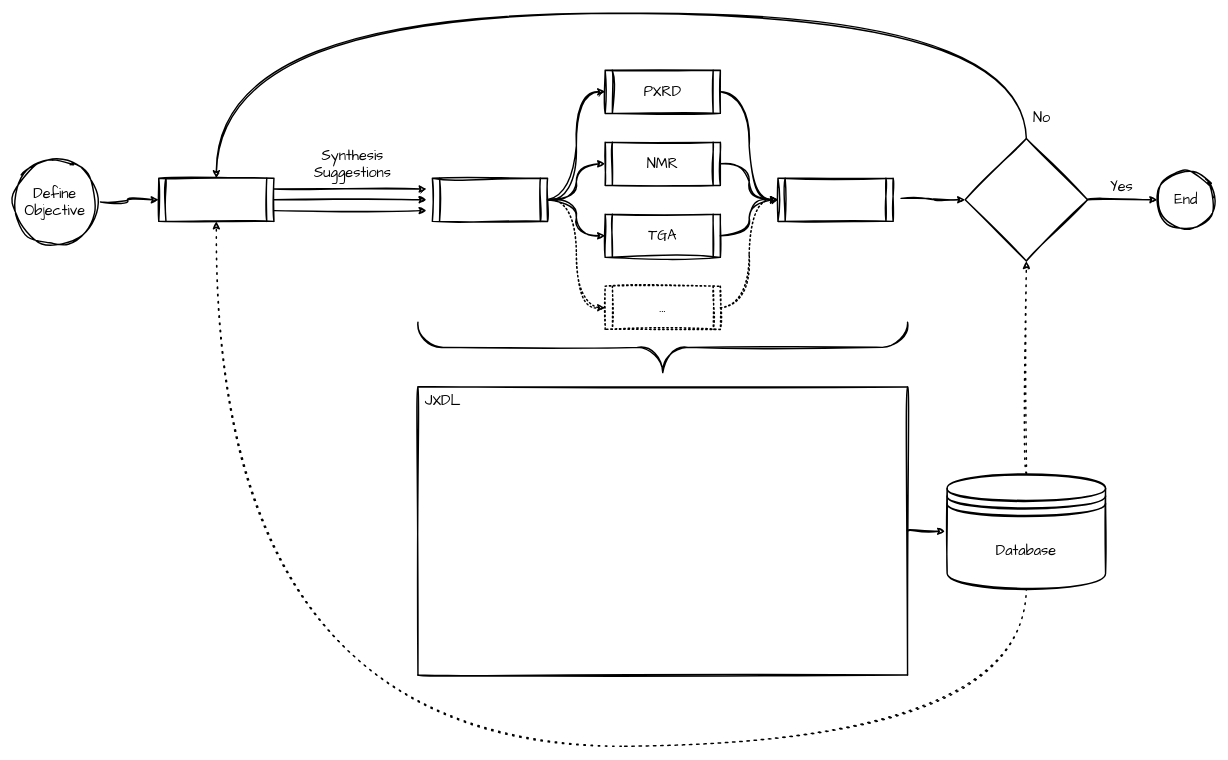
Image size: 1228x760. Some labels were removed from this diagram. Each missing label, with the centre of its shape:
"Analysis" belongs at (x=835, y=199).
"Objective reached?" belongs at (x=1026, y=199).
"Synthesis" belongs at (x=489, y=199).
"Synthesis Planning" belongs at (x=216, y=199).
